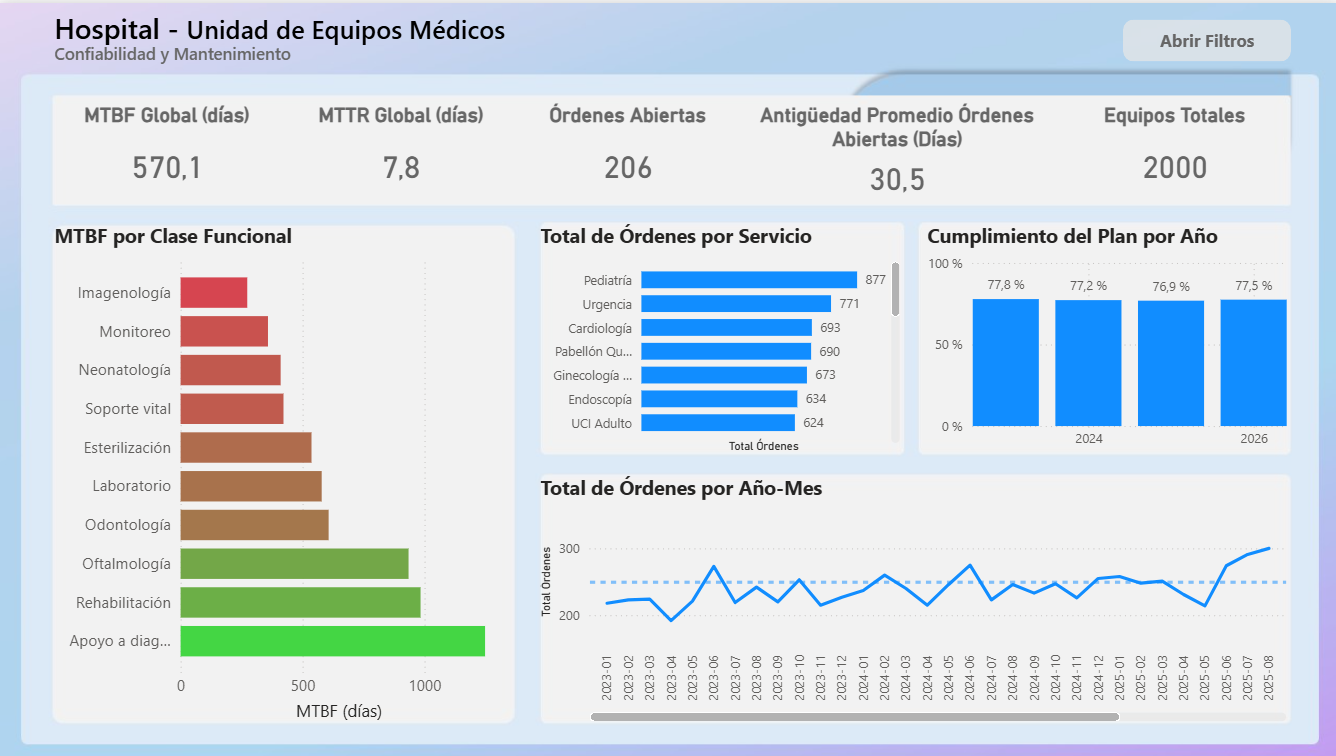

What the dashboard file says about the page in this screenshot:
{"tool":"powerbi","page":{"name":"Confiabilidad y Mantenimiento","canvas":[1280,720],"ordinal":1},"visuals":[{"type":"card","title":"Órdenes Abiertas","fields":{"Values":["_Medidas.Órdenes Abiertas"]},"box":[496,96,208,96],"z":0},{"type":"actionButton","title":"Open","box":[1072,16,160,40],"z":1000,"group":"g1"},{"type":"card","title":"MTTR Global (días)","fields":{"Values":["_Medidas.MTTR (días)"]},"box":[272,96,224,96],"z":1000},{"type":"card","title":"Antigüedad Promedio Órdenes Abiertas","fields":{"Values":["_Medidas.Antigüedad Promedio Backlog (Días)"]},"box":[704,96,304,96],"z":2000},{"type":"card","title":"MTBF Global (días)","fields":{"Values":["_Medidas.MTBF (días)"]},"box":[48,96,224,96],"z":3000},{"type":"clusteredBarChart","title":"MTBF por Clase Funcional","fields":{"Category":["dim_equipo.clase_funcional"],"Y":["_Medidas.MTBF (días)"]},"box":[48,208,448,480],"z":4000},{"type":"clusteredBarChart","title":"Total de Órdenes por Servicio","fields":{"Category":["dim_ubicacion.servicio_clinico"],"Y":["_Medidas.Total Órdenes"]},"box":[512,208,352,224],"z":5000},{"type":"lineChart","title":"Total de Órdenes por Año-Mes","fields":{"Category":["dim_fecha.anio_mes"],"Y":["_Medidas.Total Órdenes"]},"box":[512,448,720,240],"z":6000},{"type":"clusteredColumnChart","title":"Cumplimiento del Plan por Año","fields":{"Category":["dim_fecha.anio"],"Y":["_Medidas.% Cumplimiento Plan"]},"box":[880,208,352,224],"z":7000},{"type":"card","title":"Equipos Totales","fields":{"Values":["_Medidas.Equipos en Contexto"]},"box":[1008,96,224,96],"z":8000},{"type":"textbox","box":[48,0,448,48],"z":9000},{"type":"textbox","box":[48,32,304,32],"z":10000},{"type":"group","id":"g1","title":"Buttons","box":[1072,16,160,40],"z":12000}]}

Visuals, with their boxes in screenshot pixels (x1, y1, x2, y2), scaled from the page's 1280x720 canvas onto the 1336x756 screenshot:
"Órdenes Abiertas" card: {"left": 518, "top": 101, "right": 735, "bottom": 202}
"Open" actionButton: {"left": 1119, "top": 17, "right": 1286, "bottom": 59}
"MTTR Global (días)" card: {"left": 284, "top": 101, "right": 518, "bottom": 202}
"Antigüedad Promedio Órdenes Abiertas" card: {"left": 735, "top": 101, "right": 1052, "bottom": 202}
"MTBF Global (días)" card: {"left": 50, "top": 101, "right": 284, "bottom": 202}
"MTBF por Clase Funcional" clusteredBarChart: {"left": 50, "top": 218, "right": 518, "bottom": 722}
"Total de Órdenes por Servicio" clusteredBarChart: {"left": 534, "top": 218, "right": 902, "bottom": 454}
"Total de Órdenes por Año-Mes" lineChart: {"left": 534, "top": 470, "right": 1286, "bottom": 722}
"Cumplimiento del Plan por Año" clusteredColumnChart: {"left": 918, "top": 218, "right": 1286, "bottom": 454}
"Equipos Totales" card: {"left": 1052, "top": 101, "right": 1286, "bottom": 202}
textbox: {"left": 50, "top": 0, "right": 518, "bottom": 50}
textbox: {"left": 50, "top": 34, "right": 367, "bottom": 67}
"Buttons" group: {"left": 1119, "top": 17, "right": 1286, "bottom": 59}
